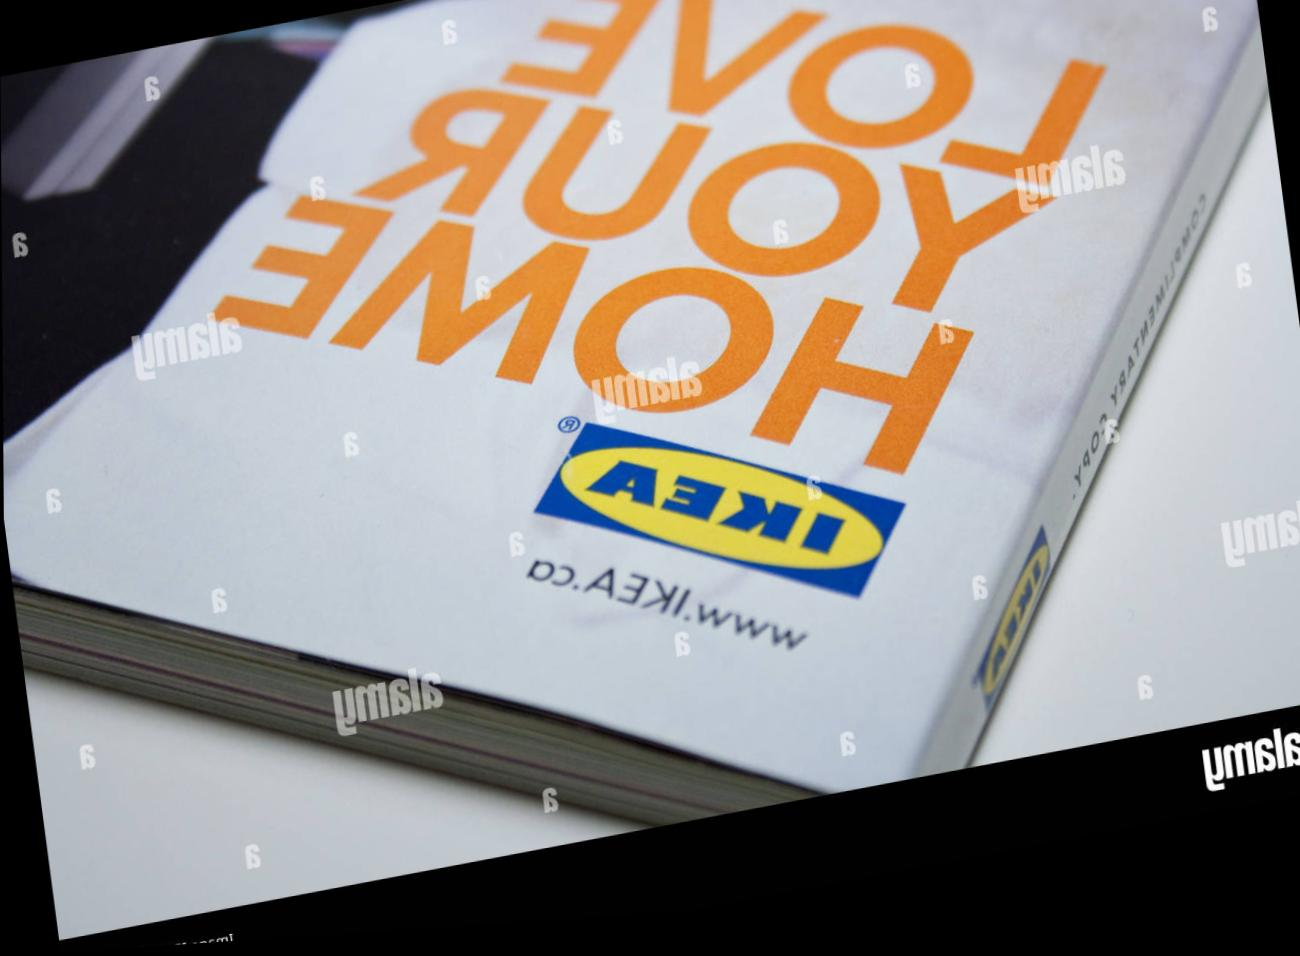paper: (0, 0, 1299, 940)
